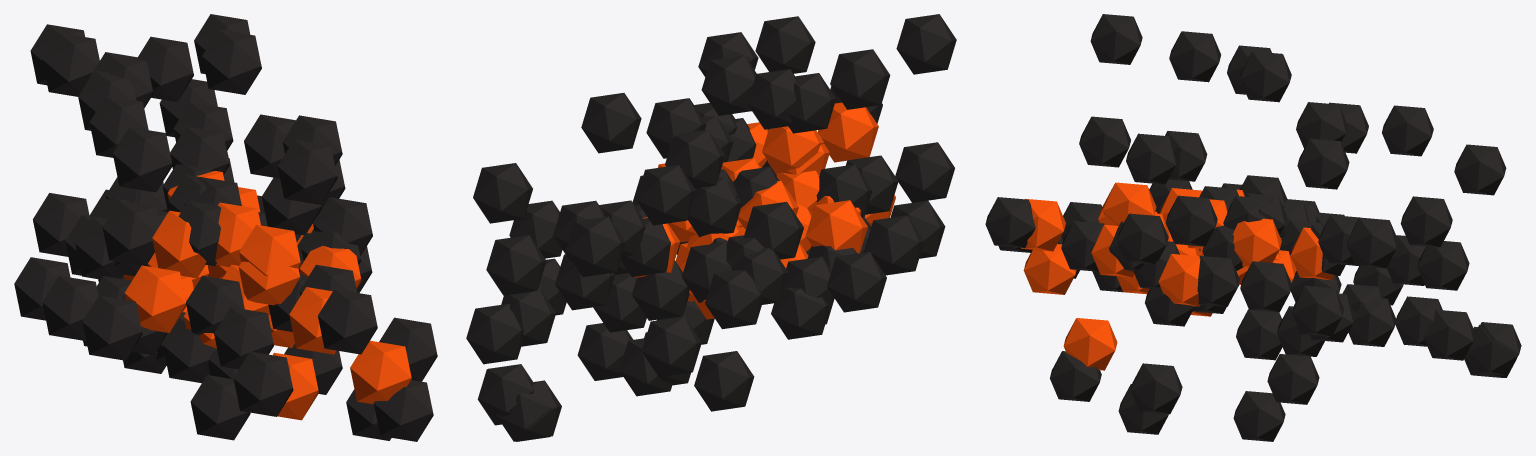
3 views of the same model, side by side, from view 1: azimuth 30°, elevation 25°; view 2: azimuth 150°, elevation 25°; view 3: azimuth 270°, elevation 25° (orthographic). The views are drawn at different scales.
Visible parts, largest first — view 1: Smoke, FireTrail; view 2: Smoke, FireTrail; view 3: Smoke, FireTrail.
Boxes of the visible parts, x1=… form: Smoke: x1=14, y1=14, x2=437, y2=441; FireTrail: x1=124, y1=171, x2=411, y2=420; Smoke: x1=466, y1=14, x2=956, y2=441; FireTrail: x1=635, y1=102, x2=895, y2=319; Smoke: x1=985, y1=14, x2=1521, y2=441; FireTrail: x1=1021, y1=182, x2=1334, y2=370.
Bounding box in the file's own units: 34.22 × 34.58 × 52.6.
